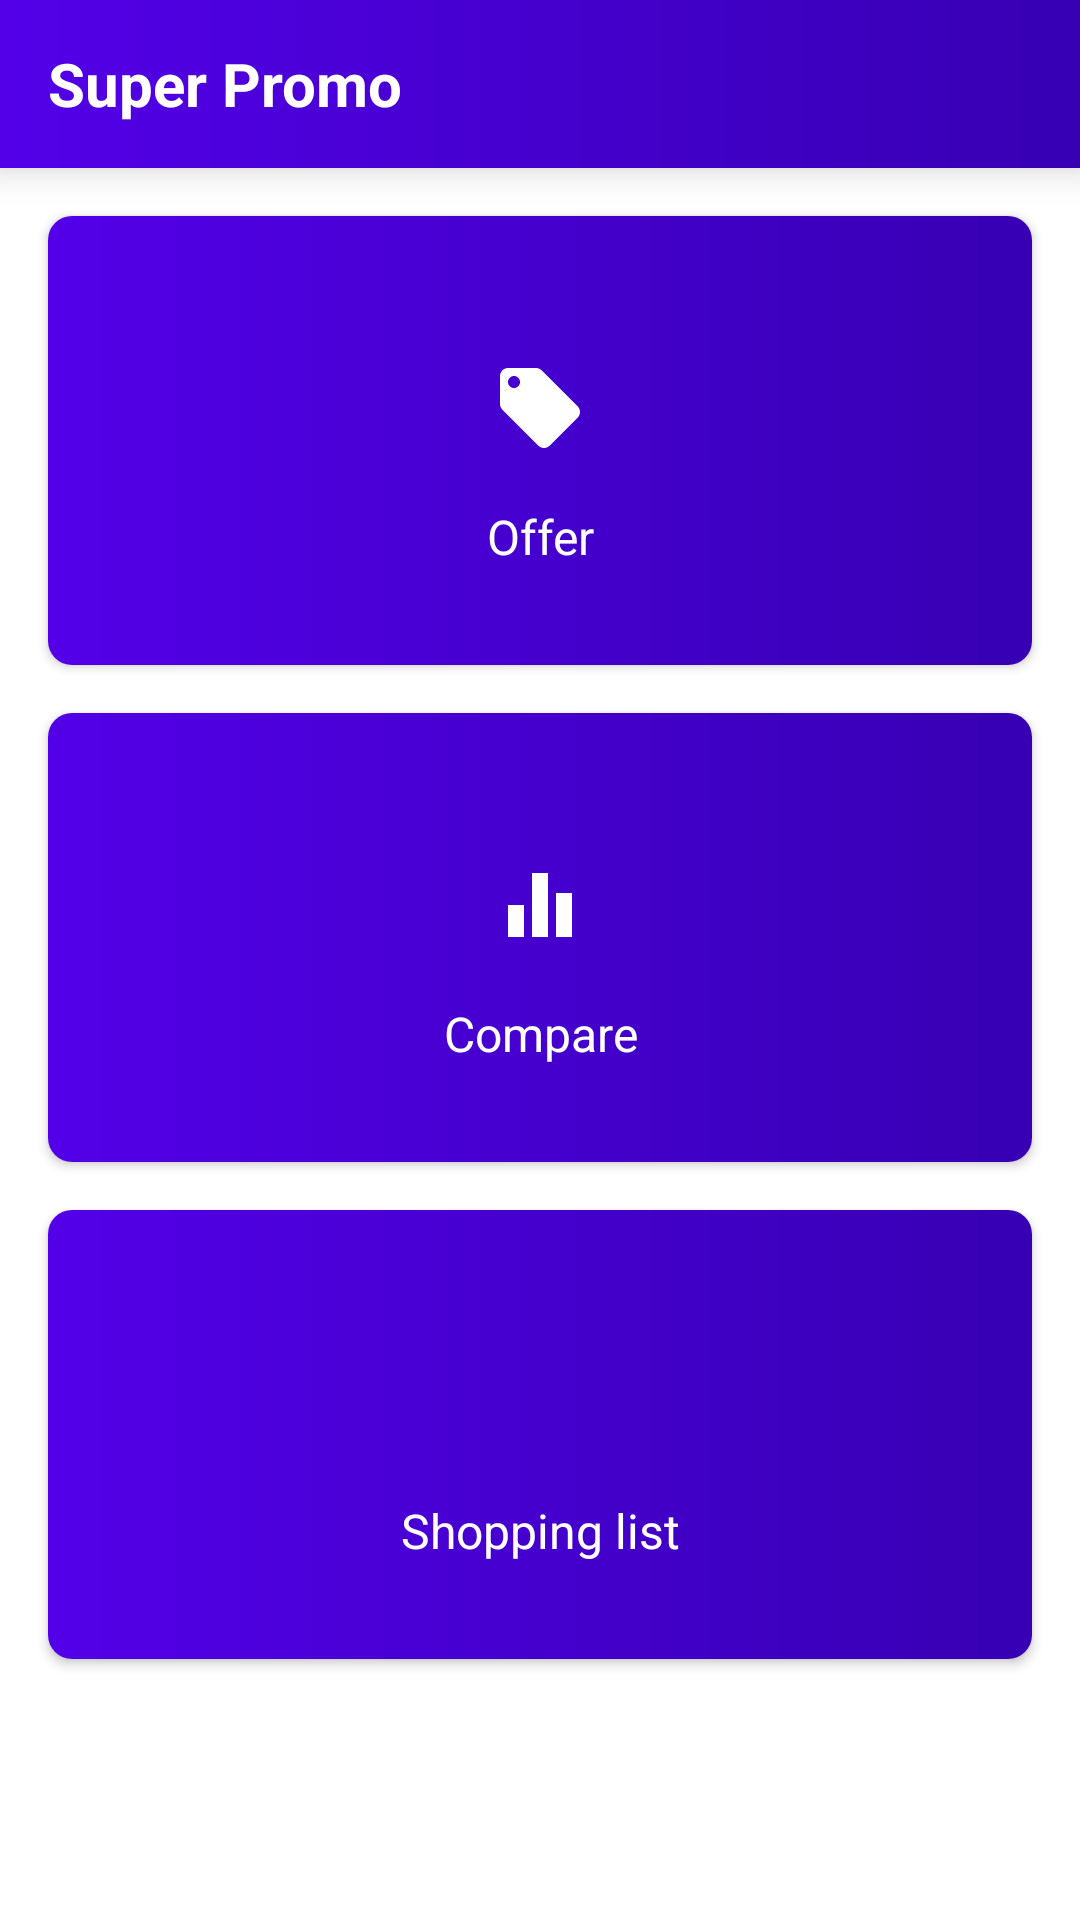

Icon click points for this 1080x1920 phone screenshot, format [x,y]:
equalizer: [540,905]
